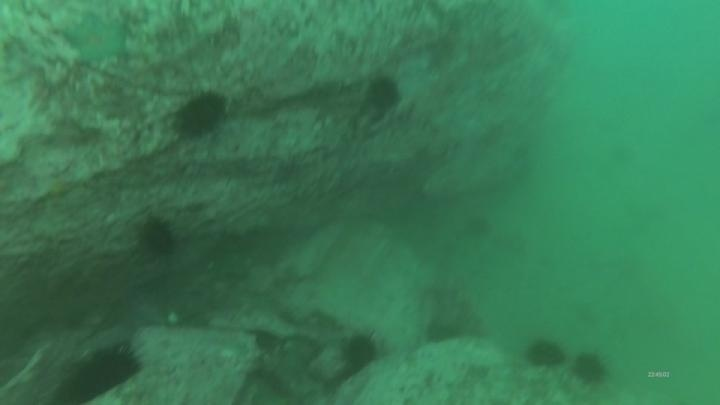echinus: (60, 341, 144, 403), (173, 89, 229, 140), (136, 215, 179, 259), (339, 330, 381, 373), (364, 73, 403, 114), (523, 336, 567, 371), (570, 350, 611, 387), (423, 316, 465, 347), (460, 212, 494, 242)
starfish: (59, 13, 132, 69)
